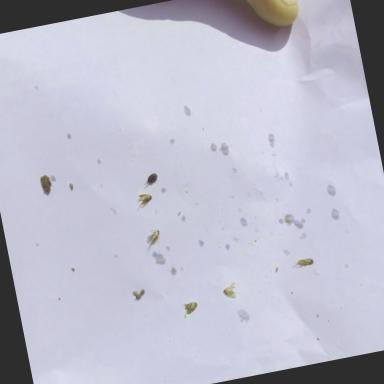pbw: (146, 228, 164, 247), (136, 192, 154, 209), (223, 284, 239, 300), (183, 300, 200, 314), (299, 257, 314, 266), (136, 288, 146, 298)
